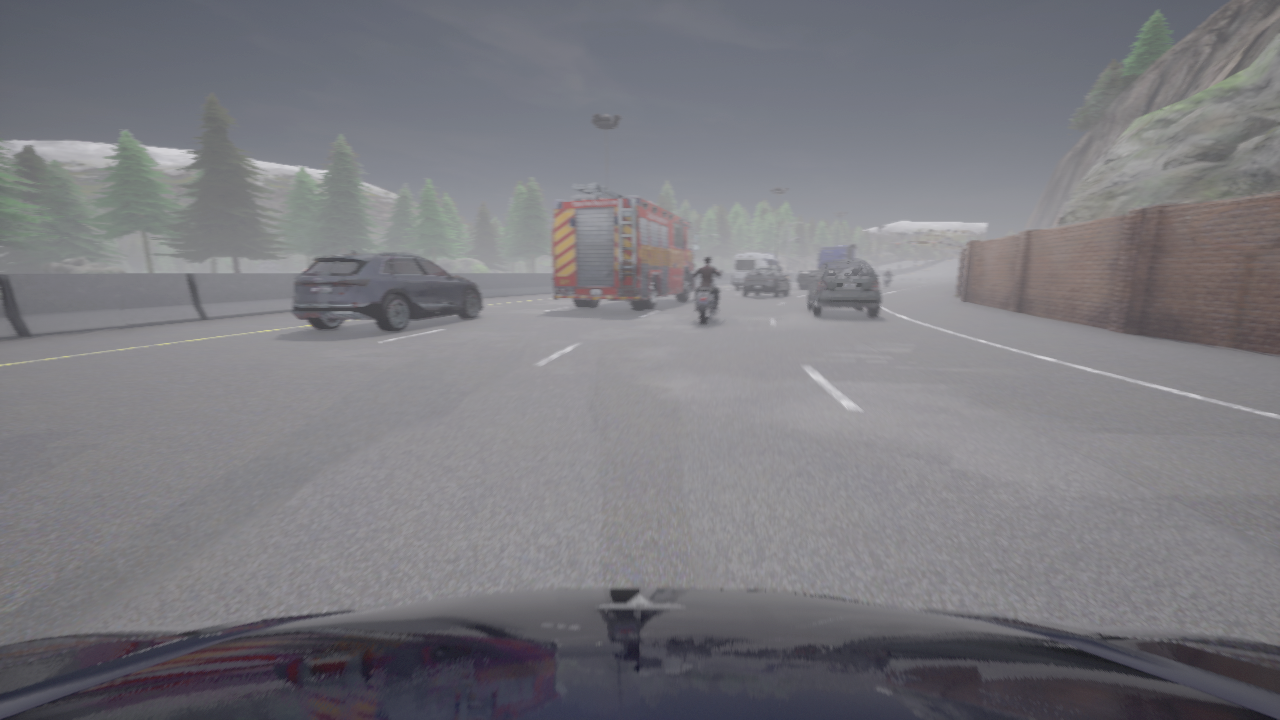cyclist: (0, 588, 1279, 719), (552, 183, 699, 309), (292, 251, 482, 331), (808, 261, 880, 317), (797, 244, 861, 288), (731, 253, 781, 289), (742, 267, 789, 297), (693, 270, 719, 324), (883, 273, 892, 287), (876, 275, 877, 276)
